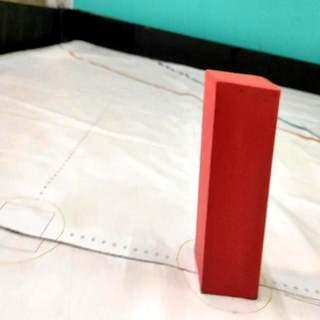redbox: (194, 70, 282, 298)
